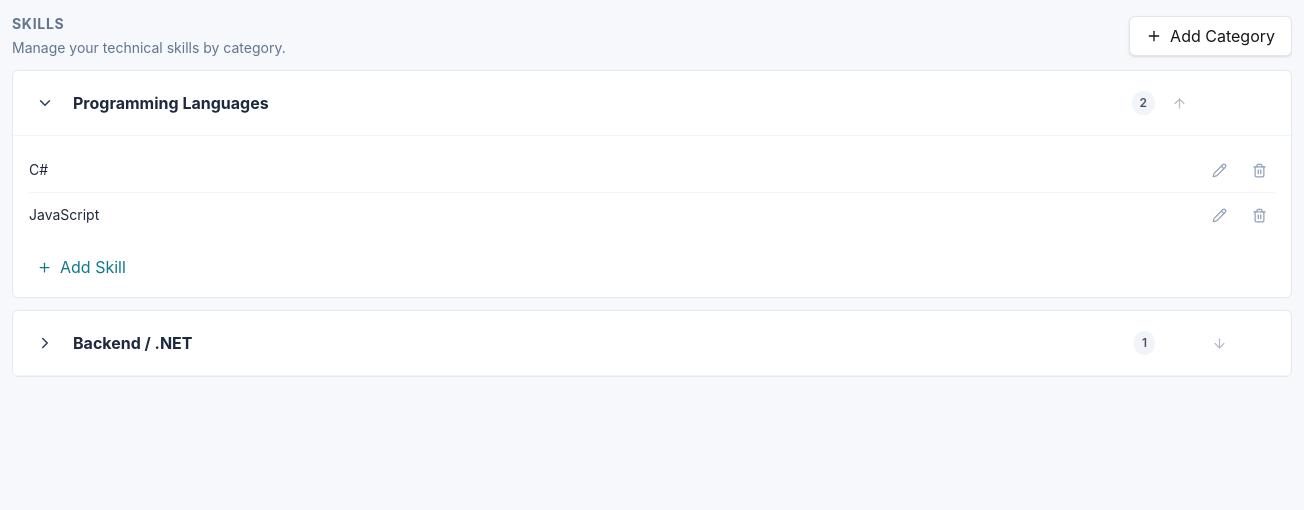
Test: SkillsCategoryEditor › expands and collapses a category
Click the button named "Expand Backend / .NET" at (45, 343), box [29,327,61,359]
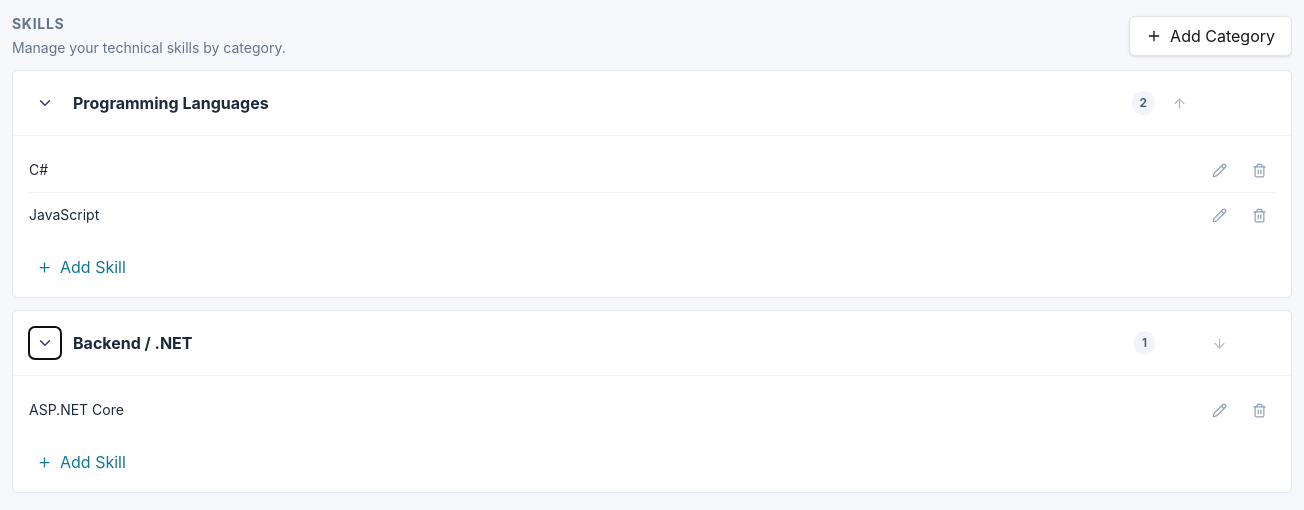
Expected: the text "ASP.NET Core" is shown, [29,401,124,418]
Click the button named "Collapse Backend / .NET" at (45, 343), box [29,327,61,359]
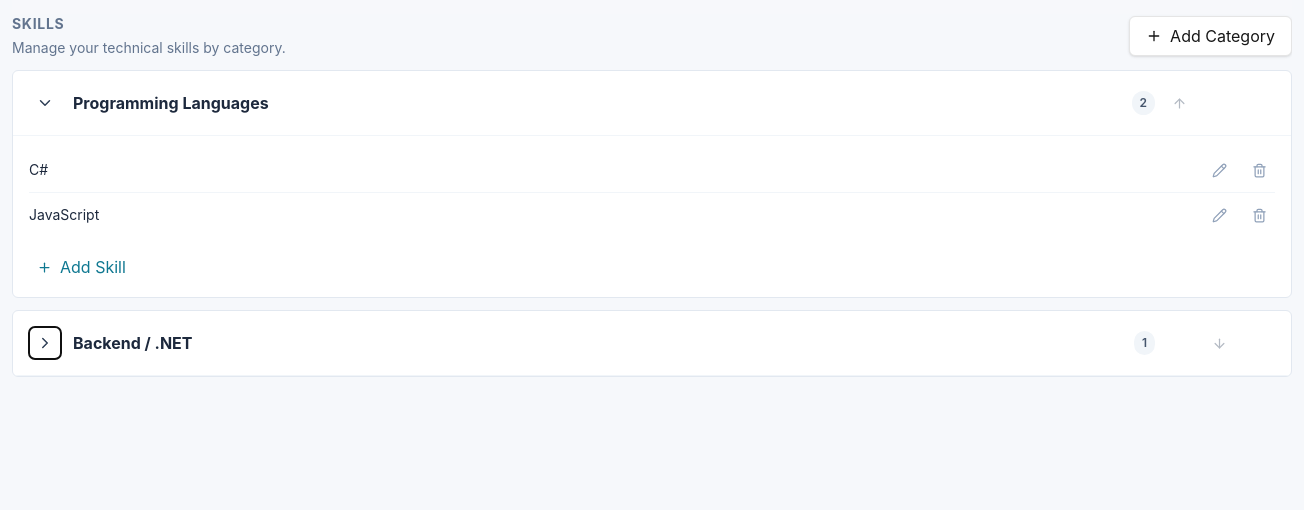
Expected: the text "ASP.NET Core" is gone
